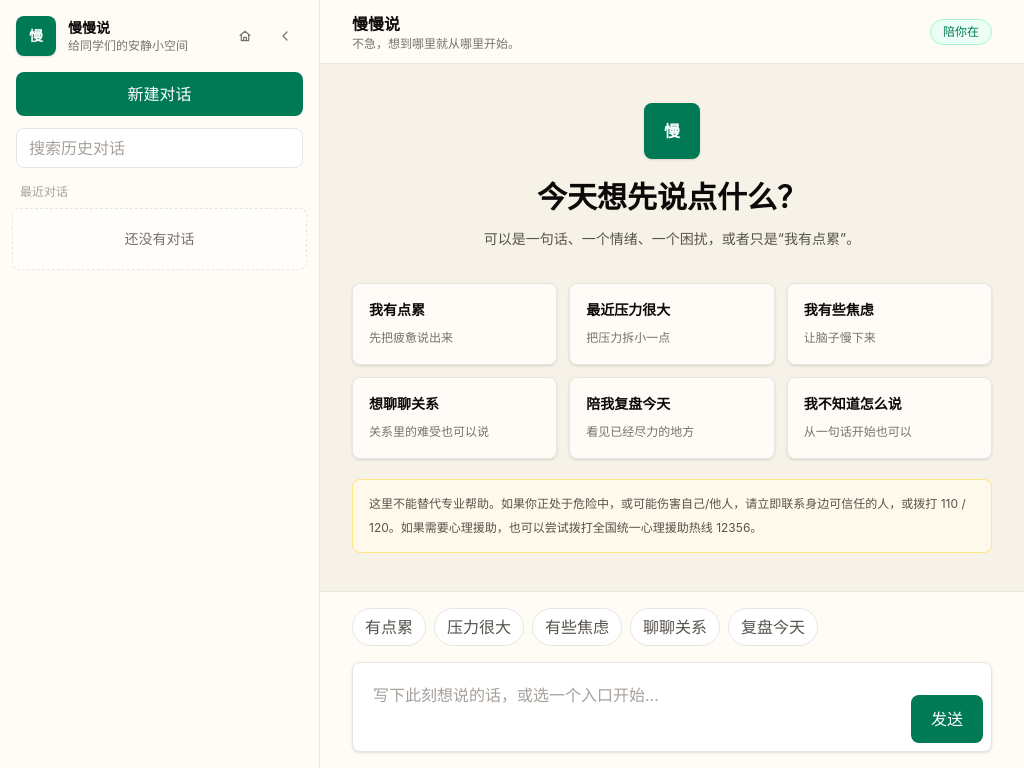
Test: ChatApp › shows a friendly prompt when the login session expires
Type "hello" into the text box named "消息输入".
click(630, 707); type("hello")  # box x1=361 y1=671 x2=899 y2=743
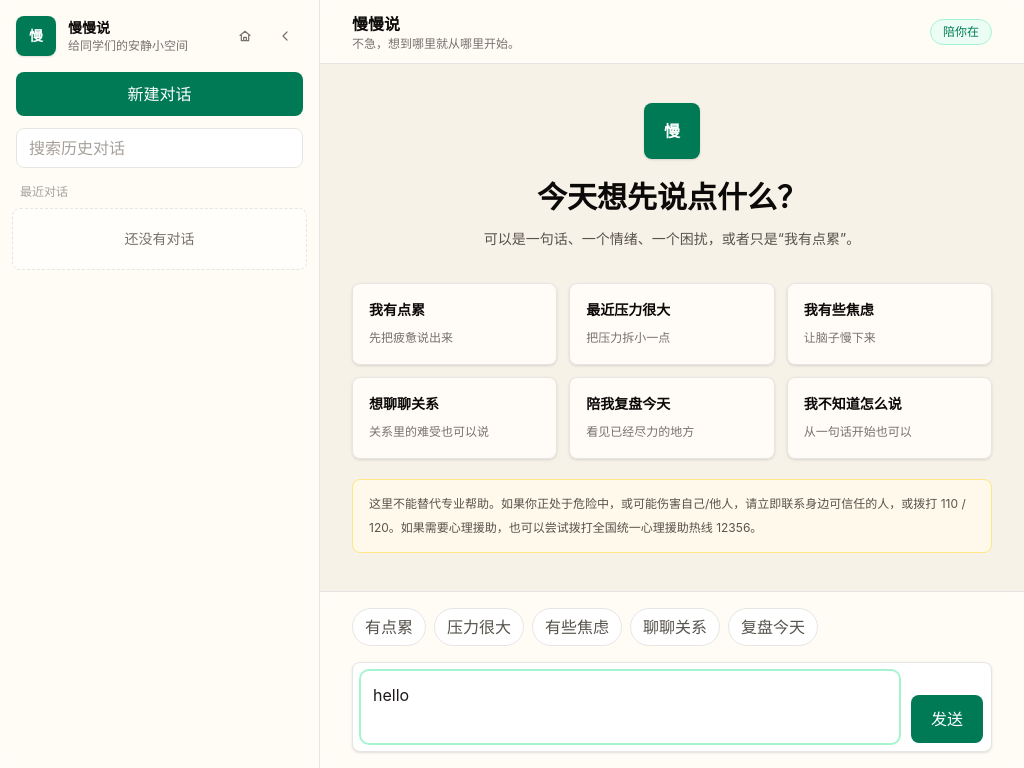
Press Enter
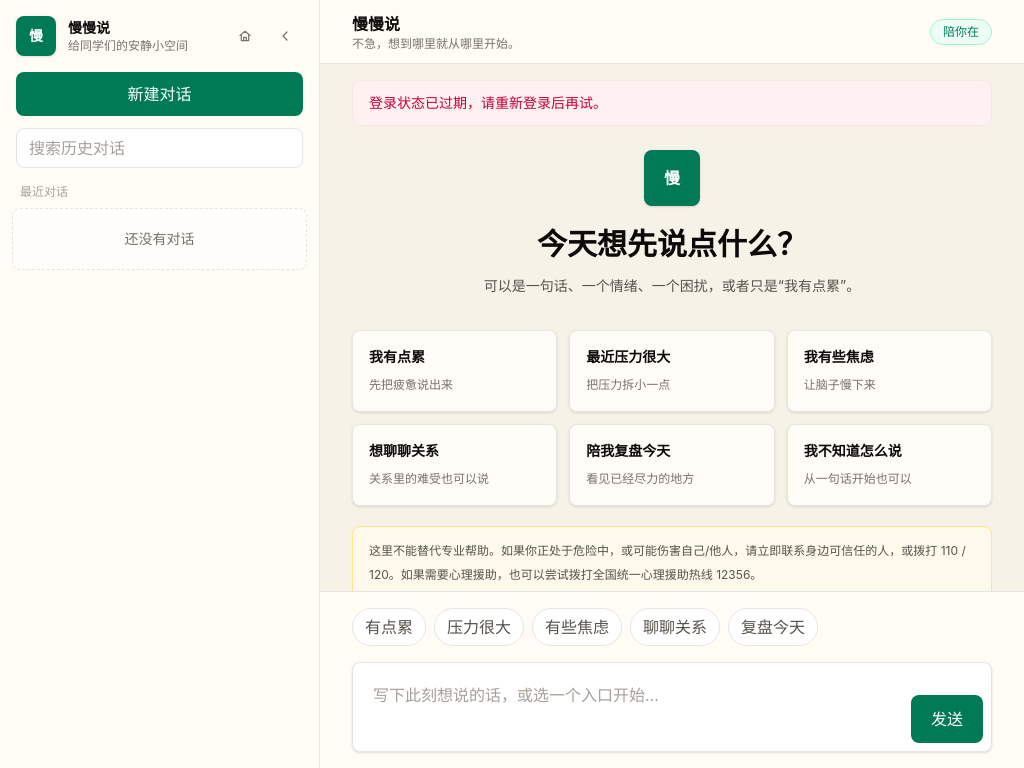
Check: the message reads "登录状态已过期，请重新登录后再试。", box x1=369 y1=94 x2=607 y2=111
